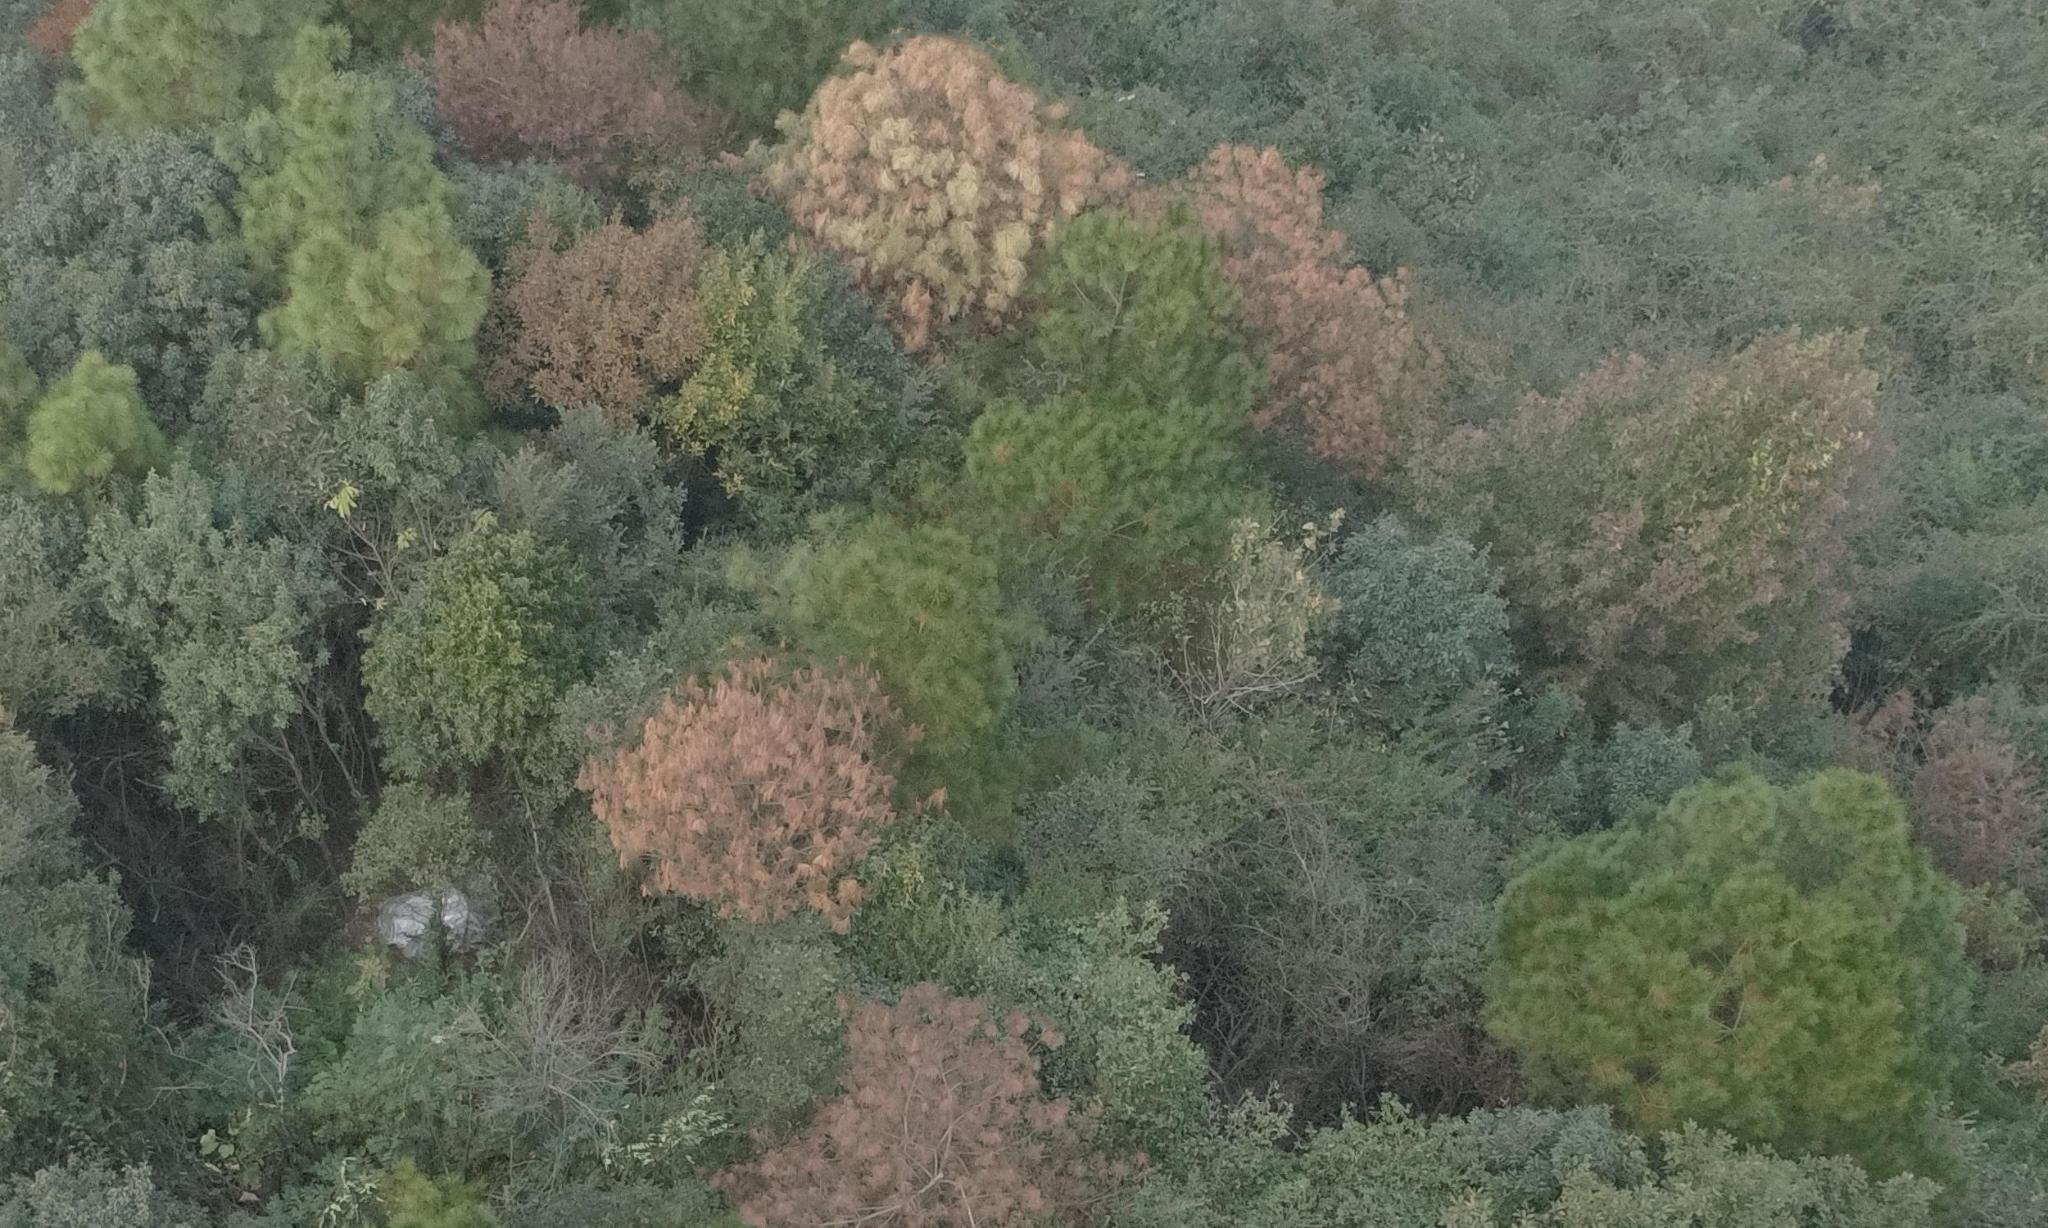heavy: (790, 39, 1110, 324), (712, 1002, 1112, 1222), (575, 660, 919, 913), (1178, 152, 1418, 490), (415, 8, 715, 166), (494, 216, 704, 424)
